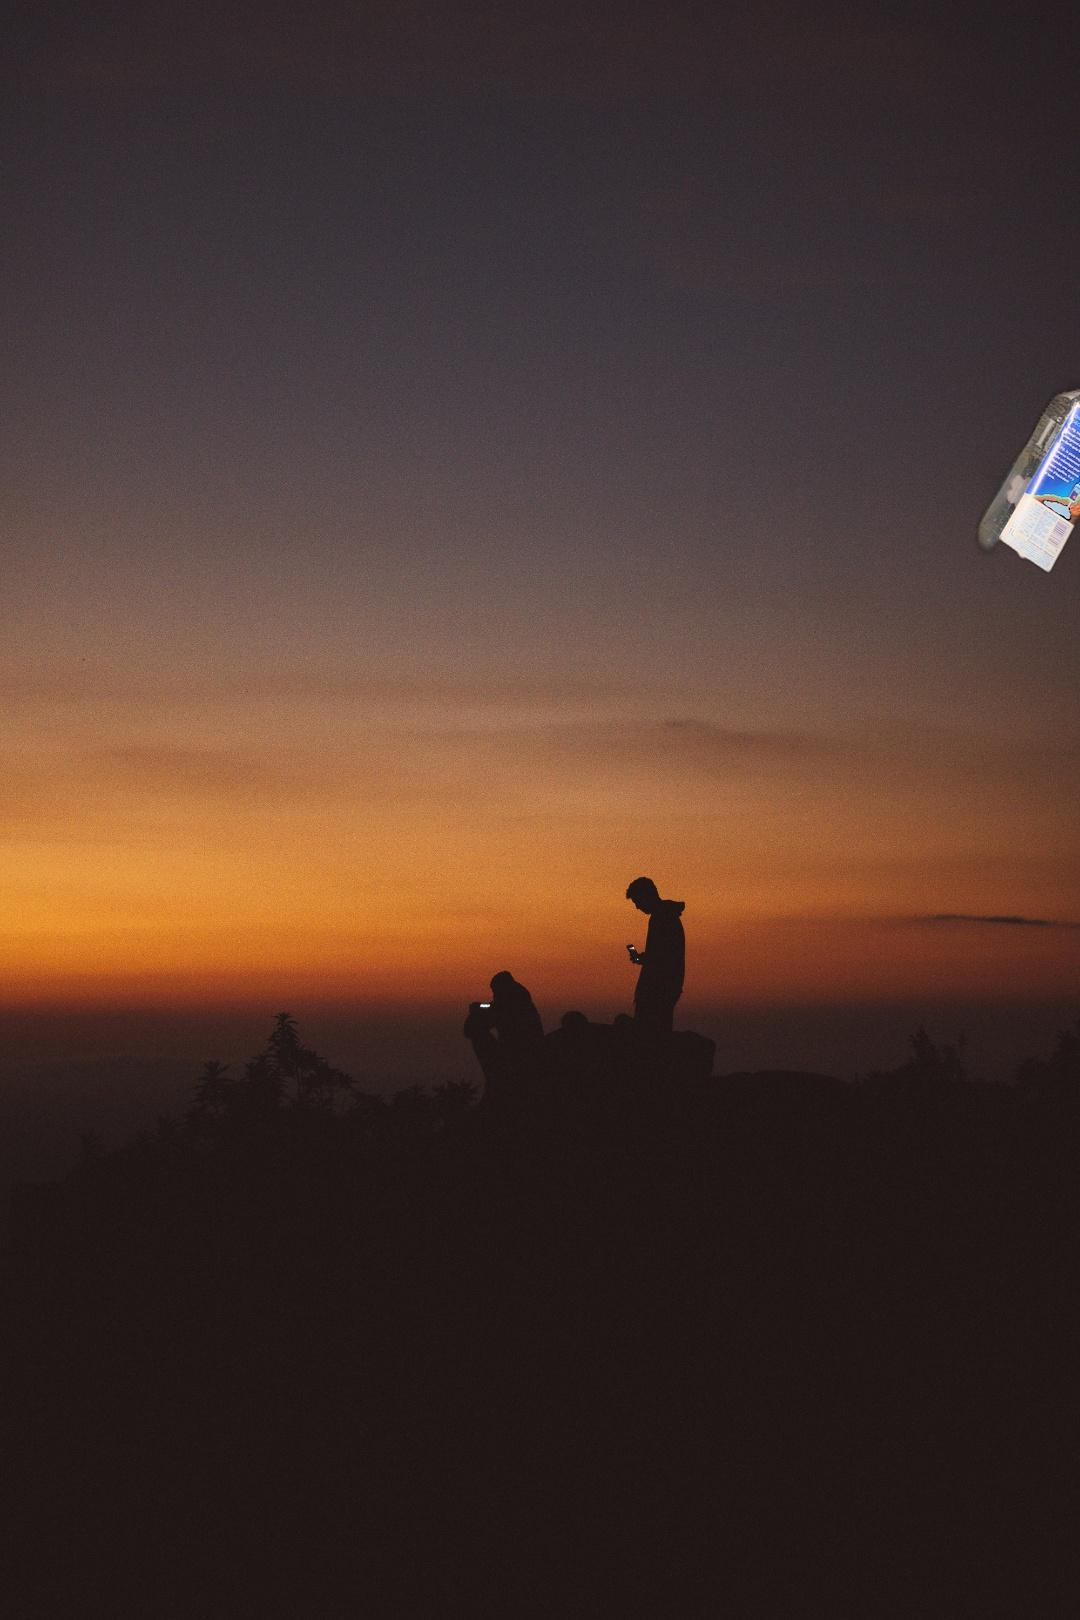plastic-bottles: (661, 357, 1080, 639)
